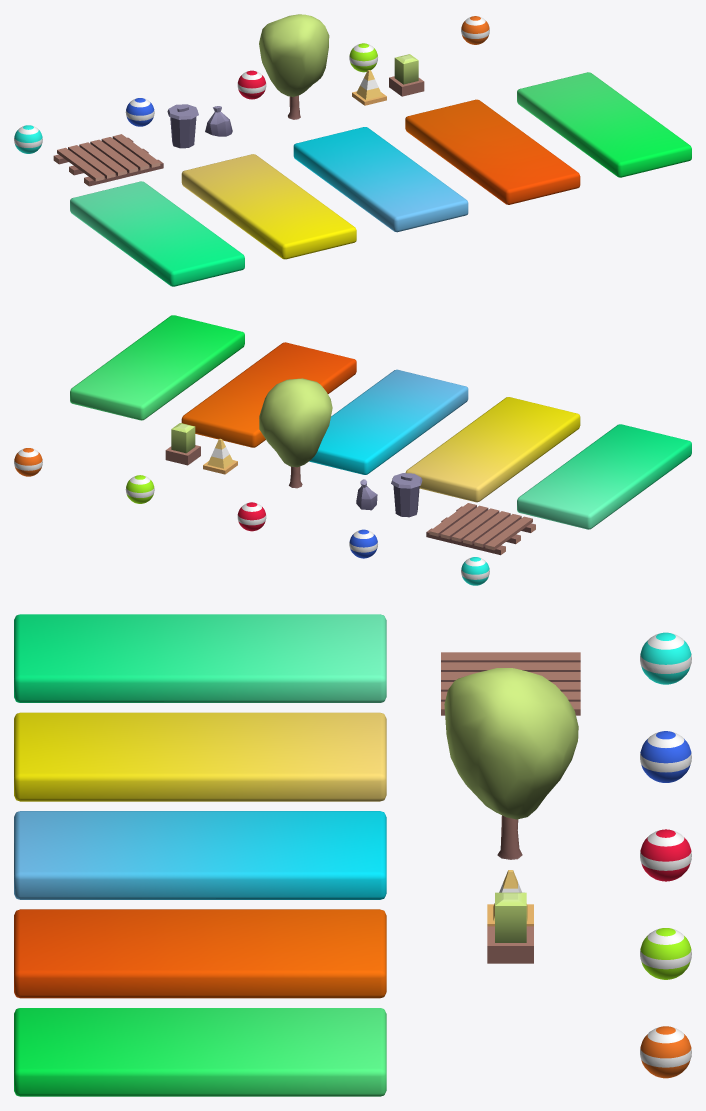
File: balls with cells.fbx
3 renders of one model, top to bottom at view 1: azimuth 30°, elevation 25°; view 2: azimuth 150°, elevation 25°; view 3: azimuth 270°, elevation 25°, orthographic. The views are drawn at different scales.
Visible parts, largest first — view 1: platform, platform.001, platform.003, platform.002, platform.004, tree, pallet, trashCan, cactoos, triangle, ball.001, ball.004 (+4 smaller); view 2: platform.002, platform.004, platform.001, platform, platform.003, tree, pallet, cactoos, trashCan, triangle, ball.001, ball.002 (+3 smaller); view 3: platform.001, platform.003, platform, platform.002, platform.004, tree, pallet, cactoos, ball.001, ball.003, ball.004, ball.002 (+1 smaller).
Boxes of the visible parts, x1,y1,x2,y2 form: platform: (293, 127, 468, 232); platform.001: (181, 154, 356, 259); platform.003: (405, 99, 580, 204); platform.002: (70, 181, 244, 286); platform.004: (517, 72, 691, 177); tree: (259, 14, 329, 119); pallet: (53, 134, 163, 186); trashCan: (167, 104, 198, 148); cactoos: (389, 54, 424, 96); triangle: (352, 70, 386, 105); ball.001: (126, 98, 154, 126); ball.004: (349, 43, 377, 71); platform.002: (517, 424, 691, 529); platform.004: (70, 315, 244, 420); platform.001: (405, 397, 580, 502); platform: (309, 369, 468, 474); platform.003: (181, 342, 356, 447); tree: (259, 378, 332, 488); pallet: (426, 503, 535, 555); cactoos: (165, 423, 200, 465); trashCan: (391, 473, 422, 517); triangle: (203, 438, 237, 474); ball.001: (349, 529, 377, 558); ball.002: (461, 557, 489, 585); platform.001: (14, 712, 386, 801); platform.003: (14, 909, 386, 998); platform: (14, 811, 386, 899); platform.002: (14, 614, 386, 702); platform.004: (14, 1008, 386, 1096); tree: (444, 668, 578, 859); pallet: (441, 652, 580, 715); cactoos: (487, 892, 533, 963); ball.001: (640, 731, 691, 782); ball.003: (640, 1026, 691, 1078); ball.004: (640, 928, 691, 979); ball.002: (640, 632, 691, 683).
Size of the model in its own units: 14 by 2.93 by 8.74.
1 material, 1 textured.
